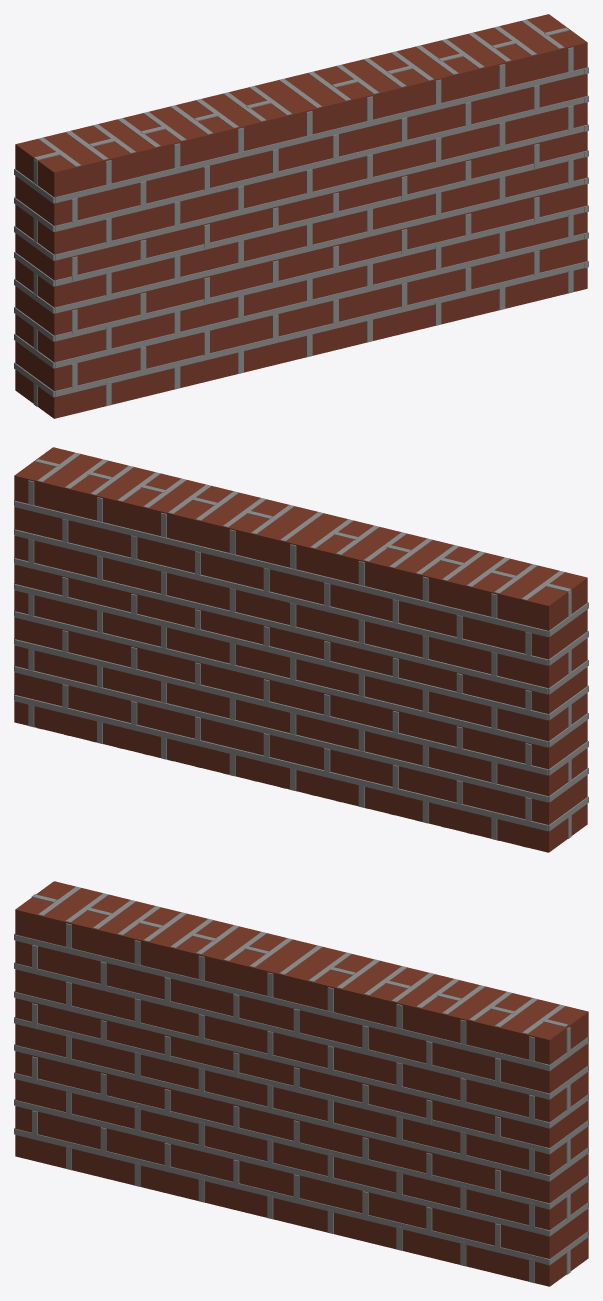
File: brick wall.fbx
The picture shows the model from 3 angles, top to bottom: view 1: azimuth 30°, elevation 25°; view 2: azimuth 150°, elevation 25°; view 3: azimuth 330°, elevation 25°; orthographic projection.
Visible parts, largest first — view 1: pCube2, group22; view 2: pCube2, pasted__pCube42, pasted__pCube10, pasted__pCube4, pasted__pCube11, pasted__pCube8, pasted__pCube7, pasted__pCube5, pasted__pCube6; view 3: pCube2, group22.
Boxes of the visible parts, bbox=[...] form: pCube2: bbox=[15, 14, 587, 418]; group22: bbox=[55, 47, 586, 406]; pCube2: bbox=[14, 447, 587, 852]; pasted__pCube42: bbox=[14, 500, 547, 636]; pasted__pCube10: bbox=[14, 666, 547, 802]; pasted__pCube4: bbox=[14, 529, 547, 665]; pasted__pCube11: bbox=[14, 695, 547, 831]; pasted__pCube8: bbox=[14, 584, 547, 720]; pasted__pCube7: bbox=[14, 611, 547, 747]; pasted__pCube5: bbox=[14, 558, 547, 694]; pasted__pCube6: bbox=[14, 639, 547, 775]; pCube2: bbox=[15, 881, 588, 1286]; group22: bbox=[15, 923, 548, 1283].
Bounding box in the file's own units: 7.96 × 3.51 × 1.04.
